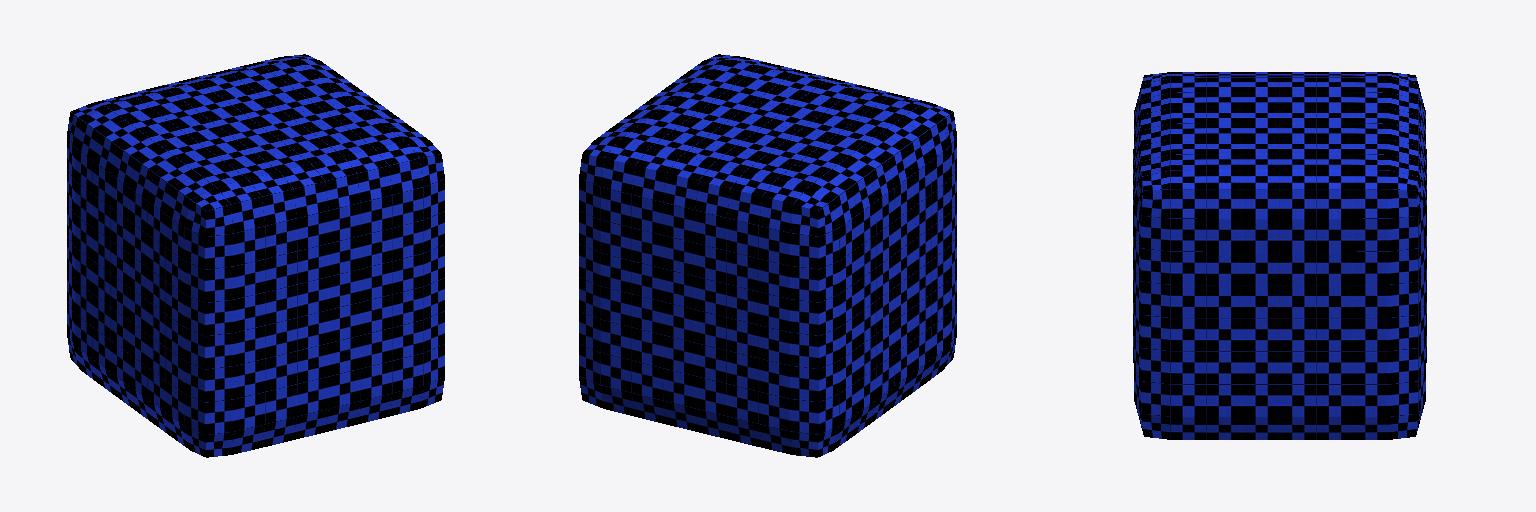
The picture shows the model from 3 angles: view 1: azimuth 30°, elevation 25°; view 2: azimuth 150°, elevation 25°; view 3: azimuth 270°, elevation 25°; orthographic projection.
Visible parts, largest first — view 1: Cube; view 2: Cube; view 3: Cube.
Part boxes in pixels (x1,y1,x2,y2): Cube: (67, 54, 444, 457); Cube: (579, 54, 956, 457); Cube: (1133, 72, 1426, 439).
Size of the model in its own units: 0.08 by 0.08 by 0.08.
Materials: 1 (1 with a texture image).